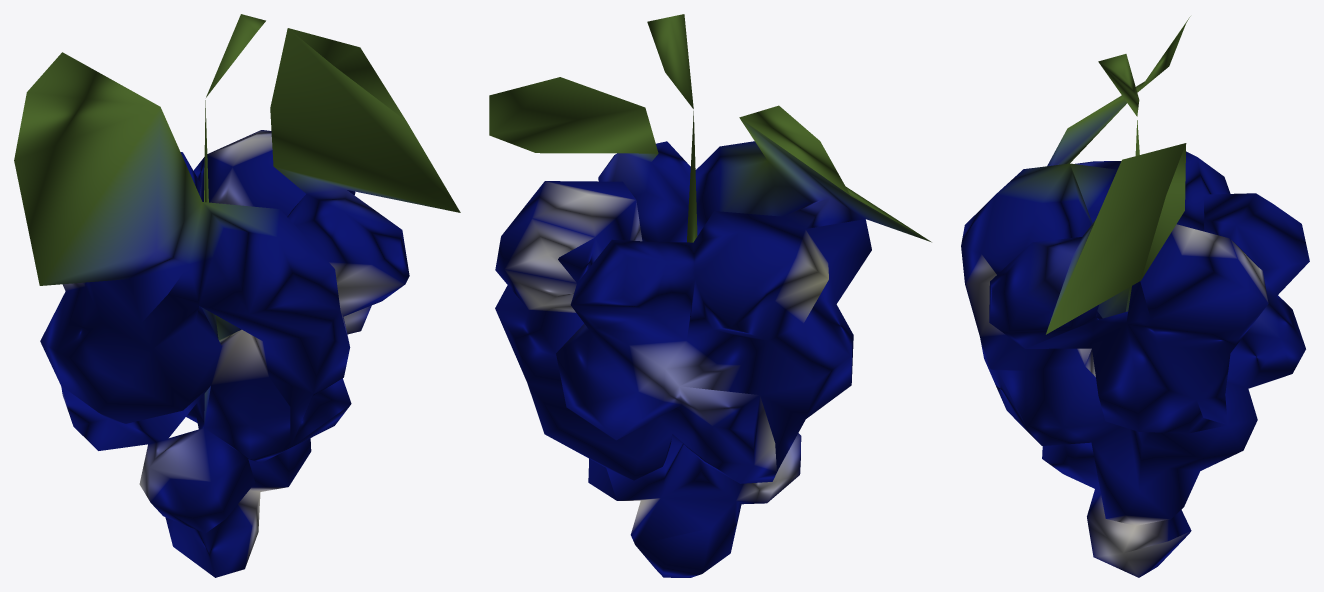
The model's file is gen3d-bunch-of-grape-lod1.glb.
3 views of the same model, side by side, from view 1: azimuth 30°, elevation 25°; view 2: azimuth 150°, elevation 25°; view 3: azimuth 270°, elevation 25° (orthographic). The views are drawn at different scales.
Parts seen in each view (by area): view 1: part_0; view 2: part_0; view 3: part_0.
Part boxes in pixels (box(x1,y1,x2,y2)): part_0: box(14, 14, 460, 577); part_0: box(489, 14, 931, 577); part_0: box(961, 16, 1309, 577).
Bounding box in the file's own units: 0.7715 × 0.9967 × 0.602.
